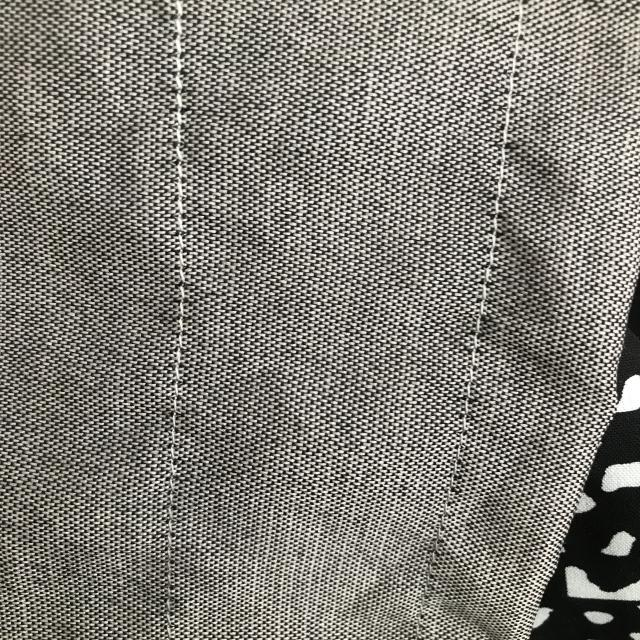good: (168, 182, 200, 428), (484, 187, 514, 297)
